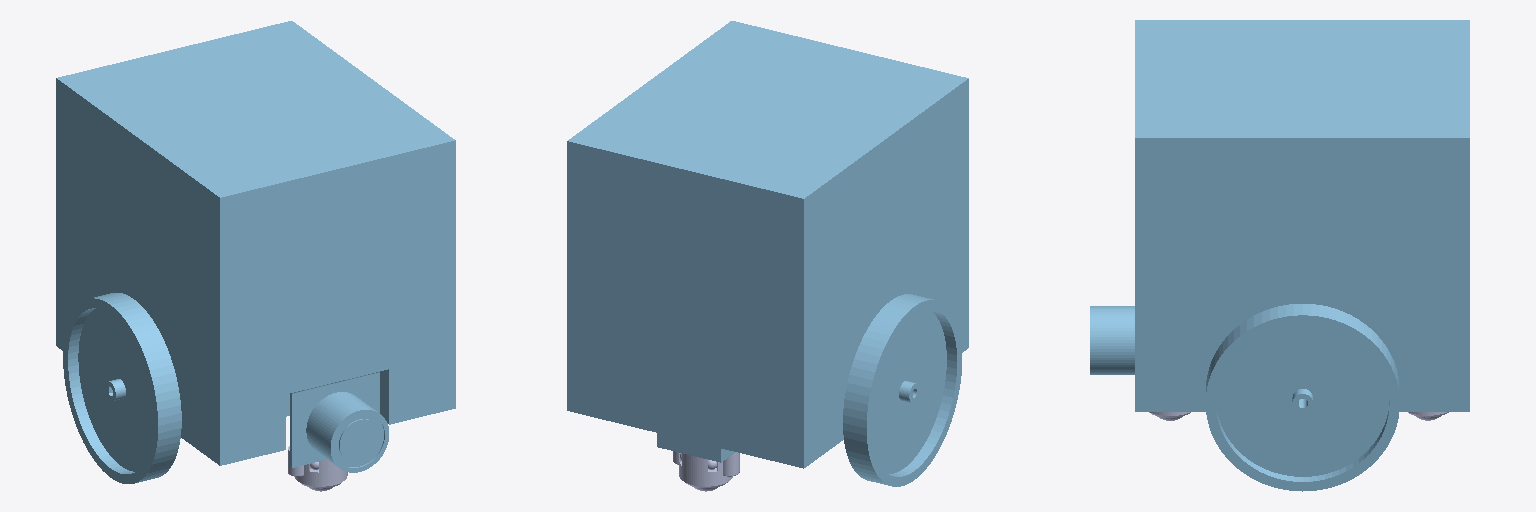
robot.urdf — my_bot:
<?xml version="1.0" ?>
<!-- Generated using onshape-to-robot -->
<!-- Onshape document_id: 71a841246b4017887df5409b -->
<robot name="my_bot">
  <!-- Link base -->
  <link name="base">
    <inertial>
      <origin xyz="0 0 0" rpy="0 0 0"/>
      <mass value="1e-09"/>
      <inertia ixx="1e-09" ixy="0" ixz="0" iyy="1e-09" iyz="0" izz="1e-09"/>
    </inertial>
    <!-- Part n20_mini_micro_metall_gear_motor -->
    <visual>
      <origin xyz="0.0304 -0.0016767 0.007" rpy="0 -0 0"/>
      <geometry>
        <mesh filename="package://assets/n20_mini_micro_metall_gear_motor.stl"/>
      </geometry>
      <material name="n20_mini_micro_metall_gear_motor_material">
        <color rgba="0.615686 0.811765 0.929412 1"/>
      </material>
    </visual>
    <collision>
      <origin xyz="0.0304 -0.0016767 0.007" rpy="0 -0 0"/>
      <geometry>
        <mesh filename="package://assets/n20_mini_micro_metall_gear_motor.stl"/>
      </geometry>
    </collision>
    <!-- Part n20_mini_micro_metall_gear_motor_2 -->
    <visual>
      <origin xyz="-0.0304 -0.0016767 0.007" rpy="-0 0 -3.14159"/>
      <geometry>
        <mesh filename="package://assets/n20_mini_micro_metall_gear_motor.stl"/>
      </geometry>
      <material name="n20_mini_micro_metall_gear_motor_2_material">
        <color rgba="0.615686 0.811765 0.929412 1"/>
      </material>
    </visual>
    <collision>
      <origin xyz="-0.0304 -0.0016767 0.007" rpy="-0 0 -3.14159"/>
      <geometry>
        <mesh filename="package://assets/n20_mini_micro_metall_gear_motor.stl"/>
      </geometry>
    </collision>
    <!-- Part rp_lidar -->
    <visual>
      <origin xyz="0.132769 -0.0800495 -0.632692" rpy="1.5708 0 -1.5708"/>
      <geometry>
        <mesh filename="package://assets/rp_lidar.stl"/>
      </geometry>
      <material name="rp_lidar_material">
        <color rgba="0.917647 0.917647 0.917647 1"/>
      </material>
    </visual>
    <collision>
      <origin xyz="0.132769 -0.0800495 -0.632692" rpy="1.5708 0 -1.5708"/>
      <geometry>
        <mesh filename="package://assets/rp_lidar.stl"/>
      </geometry>
    </collision>
    <!-- Part base -->
    <visual>
      <origin xyz="-0 -0.0016767 0" rpy="0 -0 0"/>
      <geometry>
        <mesh filename="package://assets/base.stl"/>
      </geometry>
      <material name="base_material">
        <color rgba="0.615686 0.811765 0.929412 1"/>
      </material>
    </visual>
    <collision>
      <origin xyz="-0 -0.0016767 0" rpy="0 -0 0"/>
      <geometry>
        <mesh filename="package://assets/base.stl"/>
      </geometry>
    </collision>
    <!-- Part resto -->
    <visual>
      <origin xyz="0 -0.0016767 0.02" rpy="0 -0 0"/>
      <geometry>
        <mesh filename="package://assets/resto.stl"/>
      </geometry>
      <material name="resto_material">
        <color rgba="0.615686 0.811765 0.929412 1"/>
      </material>
    </visual>
    <collision>
      <origin xyz="0 -0.0016767 0.02" rpy="0 -0 0"/>
      <geometry>
        <mesh filename="package://assets/resto.stl"/>
      </geometry>
    </collision>
    <!-- Part eletroiman -->
    <visual>
      <origin xyz="-0 -0.0478267 0.004" rpy="1.5708 -0 0"/>
      <geometry>
        <mesh filename="package://assets/eletroiman.stl"/>
      </geometry>
      <material name="eletroiman_material">
        <color rgba="0.615686 0.811765 0.929412 1"/>
      </material>
    </visual>
    <collision>
      <origin xyz="-0 -0.0478267 0.004" rpy="1.5708 -0 0"/>
      <geometry>
        <mesh filename="package://assets/eletroiman.stl"/>
      </geometry>
    </collision>
    <!-- Part 4mmball__revolve1 -->
    <visual>
      <origin xyz="-0.00413657 -0.0356901 -0.0098" rpy="-0.790522 -0.553851 0.144577"/>
      <geometry>
        <mesh filename="package://assets/4mmball__revolve1.stl"/>
      </geometry>
      <material name="4mmball__revolve1_material">
        <color rgba="0.792157 0.819608 0.933333 1"/>
      </material>
    </visual>
    <collision>
      <origin xyz="-0.00413657 -0.0356901 -0.0098" rpy="-0.790522 -0.553851 0.144577"/>
      <geometry>
        <mesh filename="package://assets/4mmball__revolve1.stl"/>
      </geometry>
    </collision>
    <!-- Part 4mmball__revolve1_2 -->
    <visual>
      <origin xyz="0.00413657 -0.0439633 -0.0098" rpy="0.636737 0.376447 0.269943"/>
      <geometry>
        <mesh filename="package://assets/4mmball__revolve1.stl"/>
      </geometry>
      <material name="4mmball__revolve1_2_material">
        <color rgba="0.792157 0.819608 0.933333 1"/>
      </material>
    </visual>
    <collision>
      <origin xyz="0.00413657 -0.0439633 -0.0098" rpy="0.636737 0.376447 0.269943"/>
      <geometry>
        <mesh filename="package://assets/4mmball__revolve1.stl"/>
      </geometry>
    </collision>
    <!-- Part 4mmball__revolve1_3 -->
    <visual>
      <origin xyz="-0.00413657 -0.0439633 -0.0098" rpy="0.278457 -0.708032 -0.317153"/>
      <geometry>
        <mesh filename="package://assets/4mmball__revolve1.stl"/>
      </geometry>
      <material name="4mmball__revolve1_3_material">
        <color rgba="0.792157 0.819608 0.933333 1"/>
      </material>
    </visual>
    <collision>
      <origin xyz="-0.00413657 -0.0439633 -0.0098" rpy="0.278457 -0.708032 -0.317153"/>
      <geometry>
        <mesh filename="package://assets/4mmball__revolve1.stl"/>
      </geometry>
    </collision>
    <!-- Part casterballwheelbody__cut_extrude6 -->
    <visual>
      <origin xyz="0 -0.0398267 -0.0175" rpy="0 -0 -0"/>
      <geometry>
        <mesh filename="package://assets/casterballwheelbody__cut_extrude6.stl"/>
      </geometry>
      <material name="casterballwheelbody__cut_extrude6_material">
        <color rgba="0.792157 0.819608 0.933333 1"/>
      </material>
    </visual>
    <collision>
      <origin xyz="0 -0.0398267 -0.0175" rpy="0 -0 -0"/>
      <geometry>
        <mesh filename="package://assets/casterballwheelbody__cut_extrude6.stl"/>
      </geometry>
    </collision>
    <!-- Part 12mmball__revolve1 -->
    <visual>
      <origin xyz="-1.7181e-08 -0.0398103 -0.015" rpy="0 -0 -0.261799"/>
      <geometry>
        <mesh filename="package://assets/12mmball__revolve1.stl"/>
      </geometry>
      <material name="12mmball__revolve1_material">
        <color rgba="0.792157 0.819608 0.933333 1"/>
      </material>
    </visual>
    <collision>
      <origin xyz="-1.7181e-08 -0.0398103 -0.015" rpy="0 -0 -0.261799"/>
      <geometry>
        <mesh filename="package://assets/12mmball__revolve1.stl"/>
      </geometry>
    </collision>
    <!-- Part 4mmball__revolve1_4 -->
    <visual>
      <origin xyz="0.00413657 -0.0356901 -0.0098" rpy="1.54546 0.726691 0.477915"/>
      <geometry>
        <mesh filename="package://assets/4mmball__revolve1.stl"/>
      </geometry>
      <material name="4mmball__revolve1_4_material">
        <color rgba="0.792157 0.819608 0.933333 1"/>
      </material>
    </visual>
    <collision>
      <origin xyz="0.00413657 -0.0356901 -0.0098" rpy="1.54546 0.726691 0.477915"/>
      <geometry>
        <mesh filename="package://assets/4mmball__revolve1.stl"/>
      </geometry>
    </collision>
    <!-- Part casterballwheellid__cut_extrude2 -->
    <visual>
      <origin xyz="-1.7181e-08 -0.0398103 -0.0068" rpy="0 0 -1.8326"/>
      <geometry>
        <mesh filename="package://assets/casterballwheellid__cut_extrude2.stl"/>
      </geometry>
      <material name="casterballwheellid__cut_extrude2_material">
        <color rgba="0.792157 0.819608 0.933333 1"/>
      </material>
    </visual>
    <collision>
      <origin xyz="-1.7181e-08 -0.0398103 -0.0068" rpy="0 0 -1.8326"/>
      <geometry>
        <mesh filename="package://assets/casterballwheellid__cut_extrude2.stl"/>
      </geometry>
    </collision>
    <!-- Part 4mmball__revolve1_5 -->
    <visual>
      <origin xyz="-0.00413656 0.0385935 -0.0097" rpy="-0.790522 -0.553851 0.144577"/>
      <geometry>
        <mesh filename="package://assets/4mmball__revolve1.stl"/>
      </geometry>
      <material name="4mmball__revolve1_5_material">
        <color rgba="0.792157 0.819608 0.933333 1"/>
      </material>
    </visual>
    <collision>
      <origin xyz="-0.00413656 0.0385935 -0.0097" rpy="-0.790522 -0.553851 0.144577"/>
      <geometry>
        <mesh filename="package://assets/4mmball__revolve1.stl"/>
      </geometry>
    </collision>
    <!-- Part 4mmball__revolve1_6 -->
    <visual>
      <origin xyz="0.00413659 0.0303203 -0.0097" rpy="0.636737 0.376447 0.269943"/>
      <geometry>
        <mesh filename="package://assets/4mmball__revolve1.stl"/>
      </geometry>
      <material name="4mmball__revolve1_6_material">
        <color rgba="0.792157 0.819608 0.933333 1"/>
      </material>
    </visual>
    <collision>
      <origin xyz="0.00413659 0.0303203 -0.0097" rpy="0.636737 0.376447 0.269943"/>
      <geometry>
        <mesh filename="package://assets/4mmball__revolve1.stl"/>
      </geometry>
    </collision>
    <!-- Part 4mmball__revolve1_7 -->
    <visual>
      <origin xyz="-0.00413656 0.0303203 -0.0097" rpy="0.278457 -0.708032 -0.317153"/>
      <geometry>
        <mesh filename="package://assets/4mmball__revolve1.stl"/>
      </geometry>
      <material name="4mmball__revolve1_7_material">
        <color rgba="0.792157 0.819608 0.933333 1"/>
      </material>
    </visual>
    <collision>
      <origin xyz="-0.00413656 0.0303203 -0.0097" rpy="0.278457 -0.708032 -0.317153"/>
      <geometry>
        <mesh filename="package://assets/4mmball__revolve1.stl"/>
      </geometry>
    </collision>
    <!-- Part casterballwheelbody__cut_extrude6_2 -->
    <visual>
      <origin xyz="1.7181e-08 0.0344569 -0.0174" rpy="0 -0 -0"/>
      <geometry>
        <mesh filename="package://assets/casterballwheelbody__cut_extrude6.stl"/>
      </geometry>
      <material name="casterballwheelbody__cut_extrude6_2_material">
        <color rgba="0.792157 0.819608 0.933333 1"/>
      </material>
    </visual>
    <collision>
      <origin xyz="1.7181e-08 0.0344569 -0.0174" rpy="0 -0 -0"/>
      <geometry>
        <mesh filename="package://assets/casterballwheelbody__cut_extrude6.stl"/>
      </geometry>
    </collision>
    <!-- Part 12mmball__revolve1_2 -->
    <visual>
      <origin xyz="-0 0.0344733 -0.0149" rpy="0 -0 -0.261799"/>
      <geometry>
        <mesh filename="package://assets/12mmball__revolve1.stl"/>
      </geometry>
      <material name="12mmball__revolve1_2_material">
        <color rgba="0.792157 0.819608 0.933333 1"/>
      </material>
    </visual>
    <collision>
      <origin xyz="-0 0.0344733 -0.0149" rpy="0 -0 -0.261799"/>
      <geometry>
        <mesh filename="package://assets/12mmball__revolve1.stl"/>
      </geometry>
    </collision>
    <!-- Part 4mmball__revolve1_8 -->
    <visual>
      <origin xyz="0.00413659 0.0385935 -0.0097" rpy="1.54546 0.726691 0.477915"/>
      <geometry>
        <mesh filename="package://assets/4mmball__revolve1.stl"/>
      </geometry>
      <material name="4mmball__revolve1_8_material">
        <color rgba="0.792157 0.819608 0.933333 1"/>
      </material>
    </visual>
    <collision>
      <origin xyz="0.00413659 0.0385935 -0.0097" rpy="1.54546 0.726691 0.477915"/>
      <geometry>
        <mesh filename="package://assets/4mmball__revolve1.stl"/>
      </geometry>
    </collision>
    <!-- Part casterballwheellid__cut_extrude2_2 -->
    <visual>
      <origin xyz="-0 0.0344733 -0.0067" rpy="0 0 -1.8326"/>
      <geometry>
        <mesh filename="package://assets/casterballwheellid__cut_extrude2.stl"/>
      </geometry>
      <material name="casterballwheellid__cut_extrude2_2_material">
        <color rgba="0.792157 0.819608 0.933333 1"/>
      </material>
    </visual>
    <collision>
      <origin xyz="-0 0.0344733 -0.0067" rpy="0 0 -1.8326"/>
      <geometry>
        <mesh filename="package://assets/casterballwheellid__cut_extrude2.stl"/>
      </geometry>
    </collision>
  </link>
  <!-- Link roda -->
  <link name="roda">
    <inertial>
      <origin xyz="0 0 0" rpy="0 0 0"/>
      <mass value="1e-09"/>
      <inertia ixx="1e-09" ixy="0" ixz="0" iyy="1e-09" iyz="0" izz="1e-09"/>
    </inertial>
    <!-- Part roda -->
    <visual>
      <origin xyz="0 -0 0" rpy="-3.14159 -0 -0"/>
      <geometry>
        <mesh filename="package://assets/roda.stl"/>
      </geometry>
      <material name="roda_material">
        <color rgba="0.615686 0.811765 0.929412 1"/>
      </material>
    </visual>
    <collision>
      <origin xyz="0 -0 0" rpy="-3.14159 -0 -0"/>
      <geometry>
        <mesh filename="package://assets/roda.stl"/>
      </geometry>
    </collision>
  </link>
  <!-- Joint from base to roda -->
  <joint name="Revolute 1" type="revolute">
    <origin xyz="-0.0414 -0.00175354 0.00699998" rpy="1.5708 -1.57038 1.5708"/>
    <parent link="base"/>
    <child link="roda"/>
    <axis xyz="0 0 1"/>
    <limit effort="10" velocity="10" lower="-3.141592653589793" upper="3.141592653589793"/>
  </joint>
  <!-- Link roda_2 -->
  <link name="roda_2">
    <inertial>
      <origin xyz="0 0 0" rpy="0 0 0"/>
      <mass value="1e-09"/>
      <inertia ixx="1e-09" ixy="0" ixz="0" iyy="1e-09" iyz="0" izz="1e-09"/>
    </inertial>
    <!-- Part roda_2 -->
    <visual>
      <origin xyz="-0 -0 0" rpy="-3.14159 0 -0"/>
      <geometry>
        <mesh filename="package://assets/roda.stl"/>
      </geometry>
      <material name="roda_2_material">
        <color rgba="0.615686 0.811765 0.929412 1"/>
      </material>
    </visual>
    <collision>
      <origin xyz="-0 -0 0" rpy="-3.14159 0 -0"/>
      <geometry>
        <mesh filename="package://assets/roda.stl"/>
      </geometry>
    </collision>
  </link>
  <!-- Joint from base to roda_2 -->
  <joint name="Revolute 2" type="revolute">
    <origin xyz="0.0414 -0.00159986 0.00699998" rpy="-1.5708 -1.57038 1.5708"/>
    <parent link="base"/>
    <child link="roda_2"/>
    <axis xyz="0 0 1"/>
    <limit effort="10" velocity="10" lower="-3.141592653589793" upper="3.141592653589793"/>
  </joint>
</robot>

--- Render facts (derived) ---
3 views of the same robot in one strip: view 1: azimuth 30°, elevation 25°; view 2: azimuth 150°, elevation 25°; view 3: azimuth 270°, elevation 25° (orthographic).
Model my_bot with 3 links and 2 joints (2 revolute), rooted at base, posed all joints at 0.
Visible links, largest first — view 1: base, roda; view 2: base, roda; view 3: base, roda_2.
Link boxes in pixels (box(x1,y1,x2,y2)): base: box(56, 21, 455, 491); roda: box(63, 293, 181, 483); base: box(567, 21, 968, 491); roda: box(843, 294, 961, 486); base: box(1090, 20, 1469, 420); roda_2: box(1206, 304, 1399, 491).
Bounding box of the posed robot: 0.0988 × 0.1093 × 0.108 m (x, y, z).
19 mesh visuals loaded from 10 distinct referenced files (8 binary STL); not drawn: 3 (reference not matched to a file when rendering).
